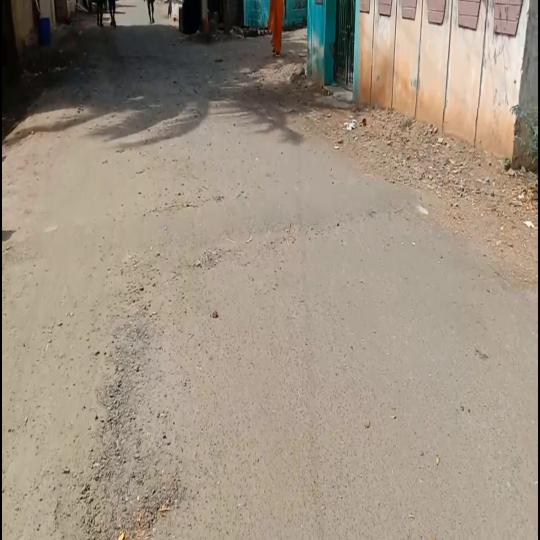Speed Bump: (65, 170, 404, 258)
